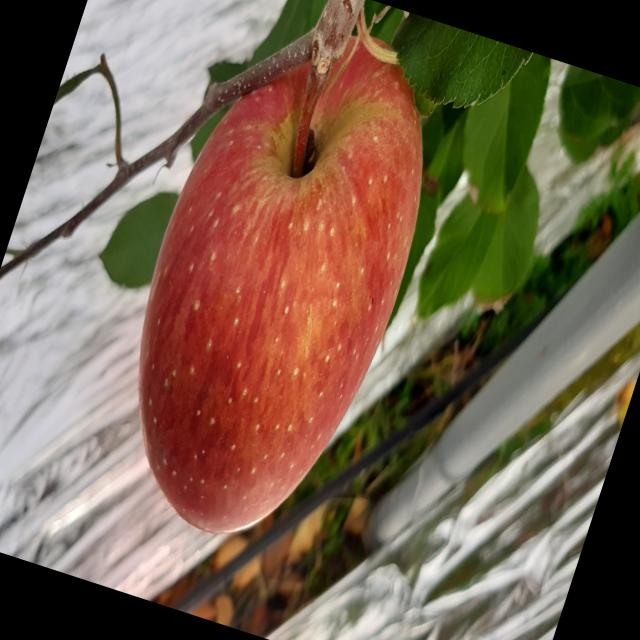fresh: (76, 1, 480, 574)
